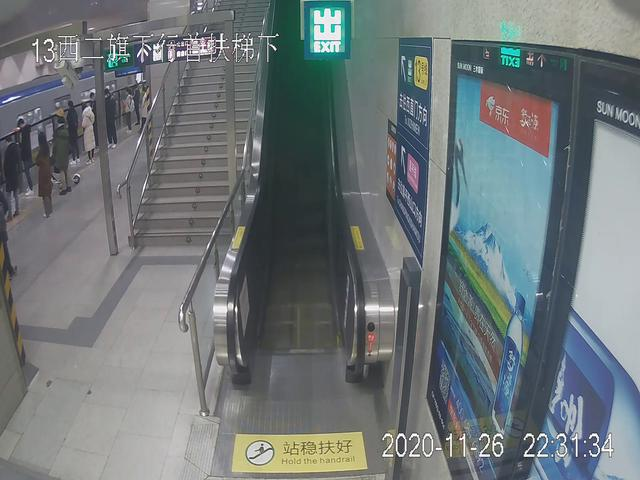person: (35, 133, 56, 220), (16, 119, 39, 195), (53, 120, 74, 196), (79, 101, 98, 165)
